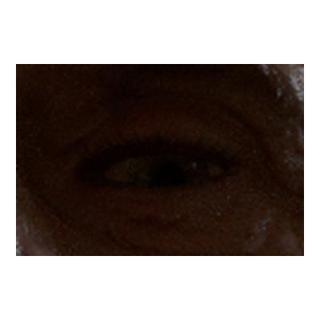pupil: (153, 165, 183, 195)
